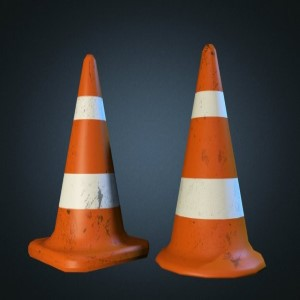traffic cone: (27, 53, 149, 273), (155, 43, 267, 279)
